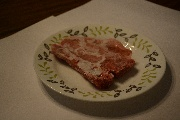beef: (50, 37, 134, 89)
